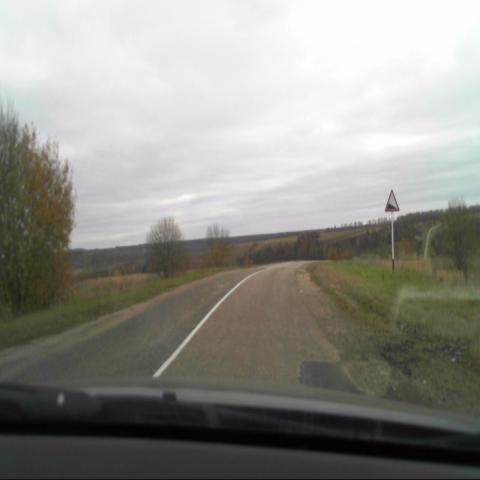1_13: (384, 188, 401, 213)
